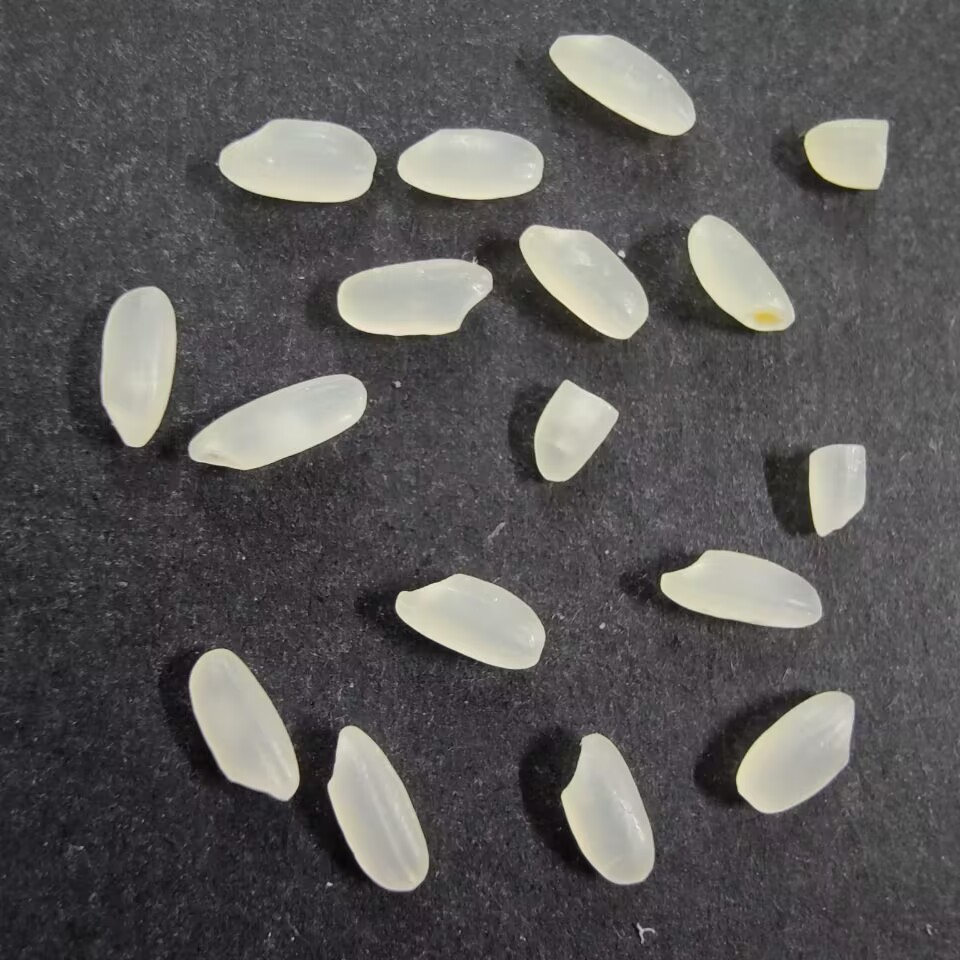broken: (528, 374, 621, 488), (797, 113, 895, 193), (804, 441, 877, 540)
rice: (322, 724, 436, 895), (186, 370, 368, 476), (187, 645, 302, 801), (517, 219, 652, 342), (546, 32, 700, 139), (558, 732, 660, 892), (393, 570, 548, 672), (733, 687, 858, 813), (214, 114, 383, 205), (656, 545, 826, 632), (95, 283, 179, 450), (686, 209, 797, 334), (333, 257, 496, 339), (394, 121, 547, 201)
